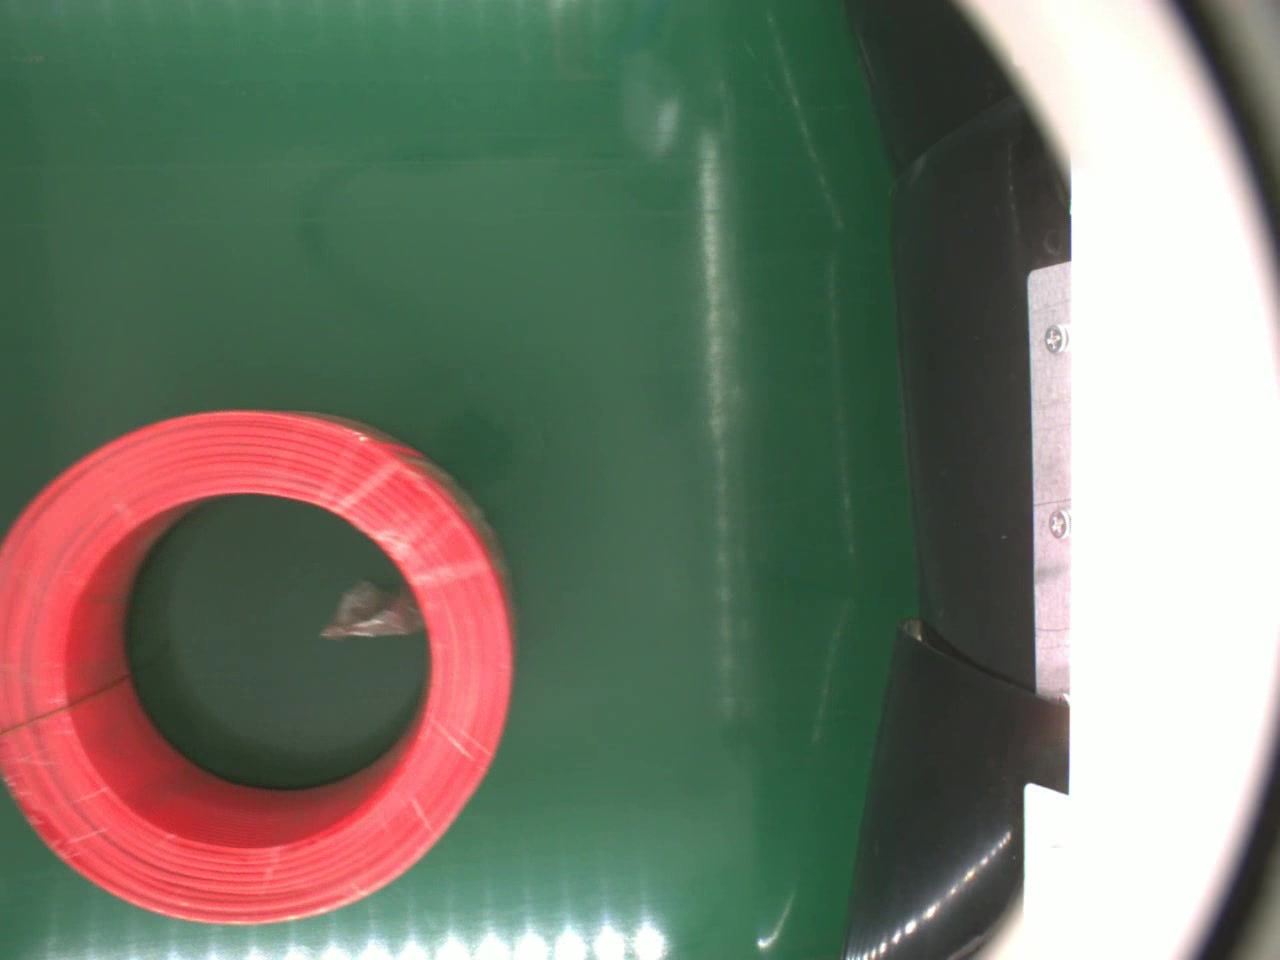red: (0, 403, 518, 924)
